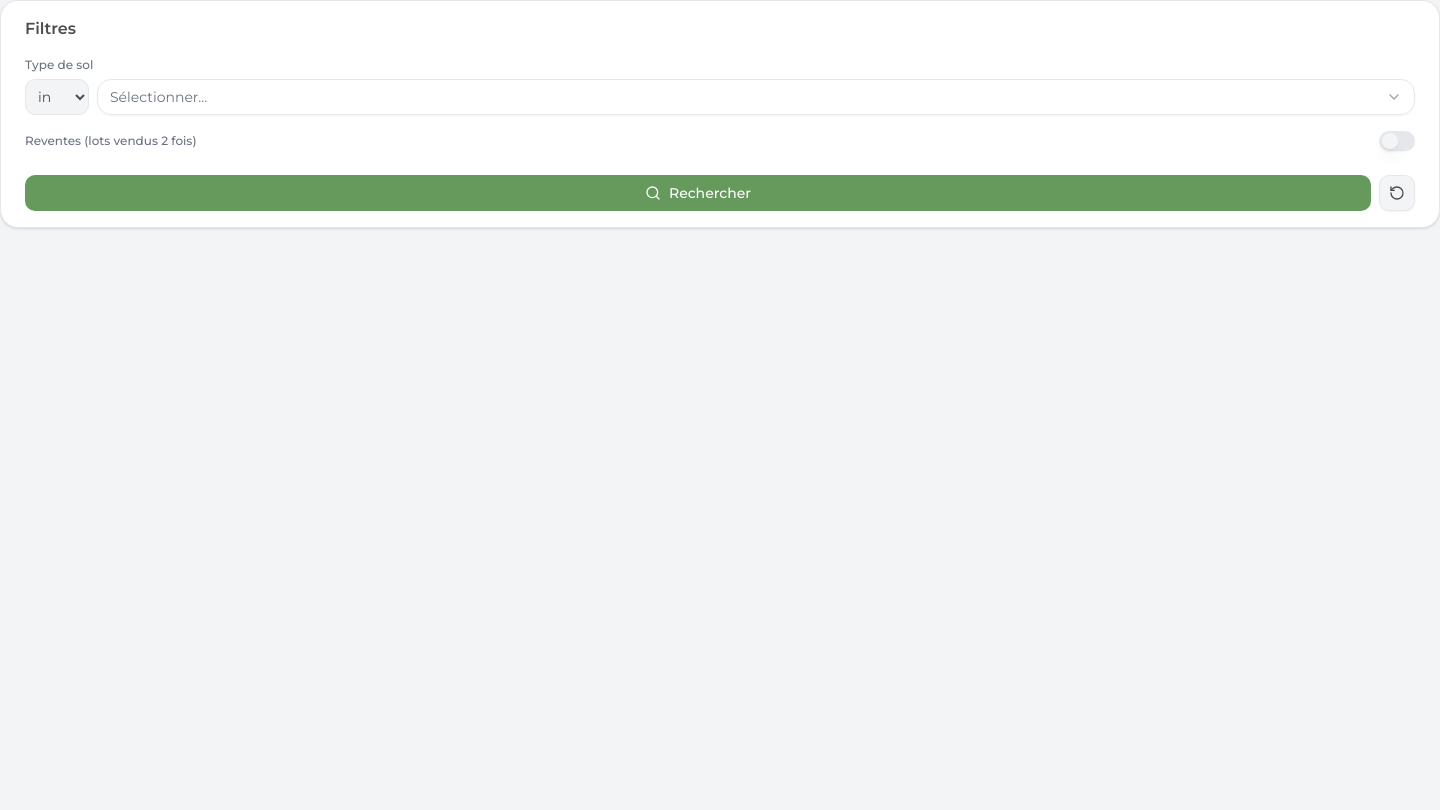
Test: TransactionFilters multi-sélection › rend un select multiple (dropdown) pour un filtre MULTI_SELECT
This screenshot has width=1440, height=810.
Click the button "Sélectionner..." at (159,97), box x1=97 y1=79 x2=1415 y2=115
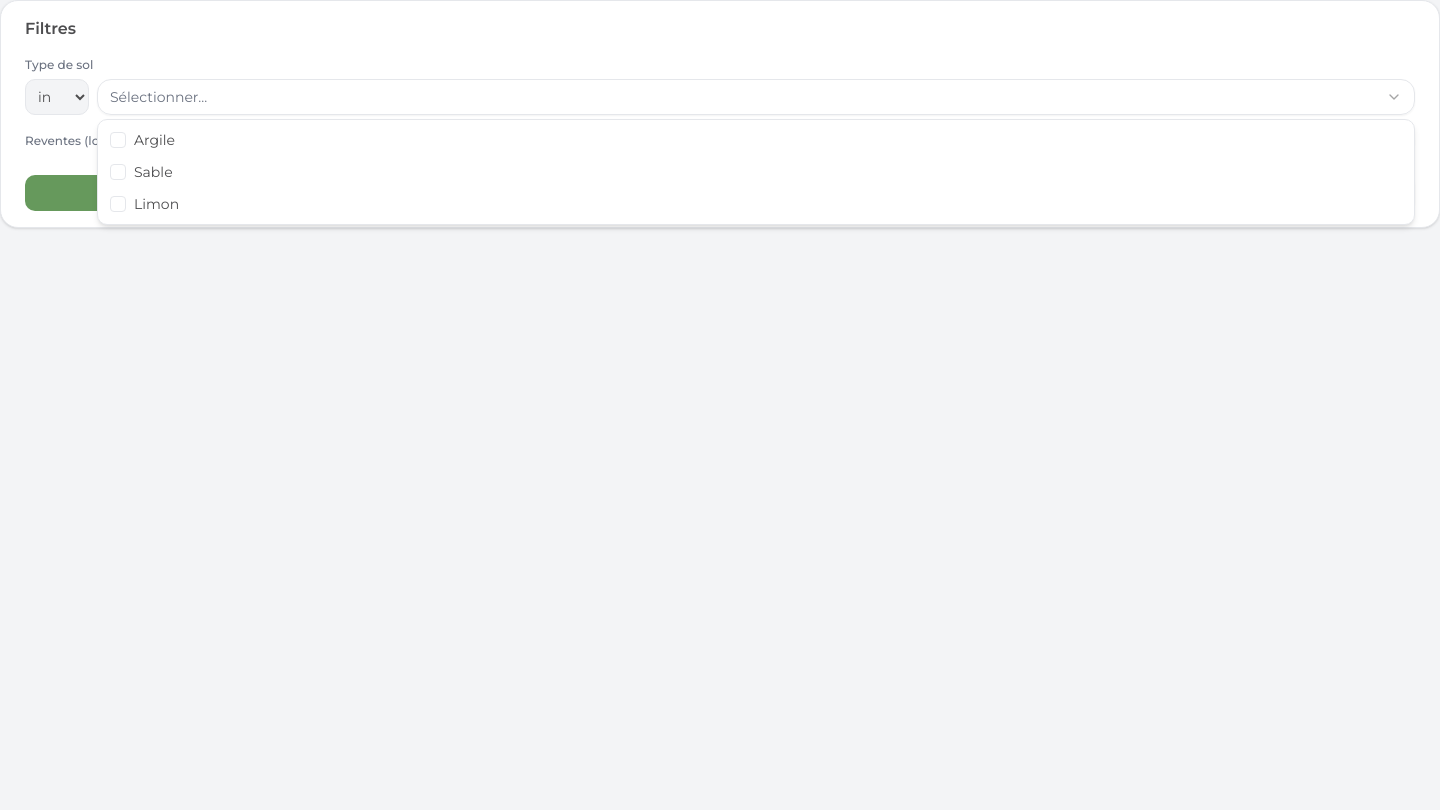
Expected: the number of options is 3, x1=102 y1=124 x2=1410 y2=156; x1=102 y1=156 x2=1410 y2=188; x1=102 y1=188 x2=1410 y2=220
